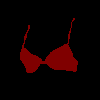reggiseno: (20, 18, 78, 73)
